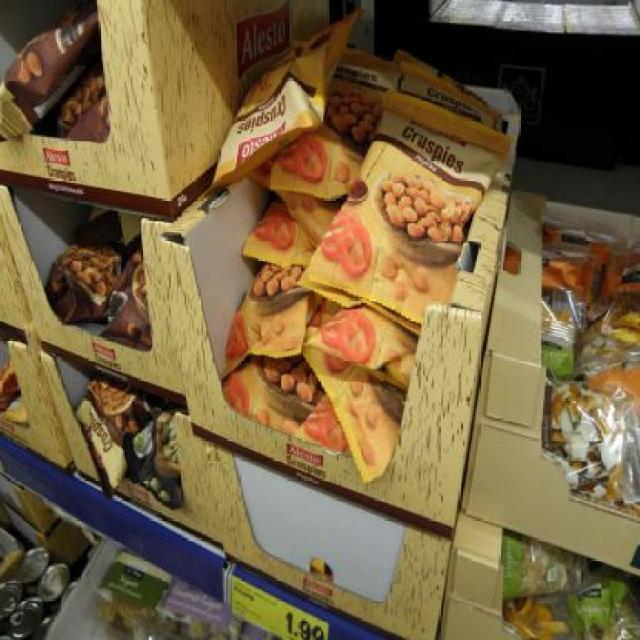Chips: (343, 94, 485, 316)
